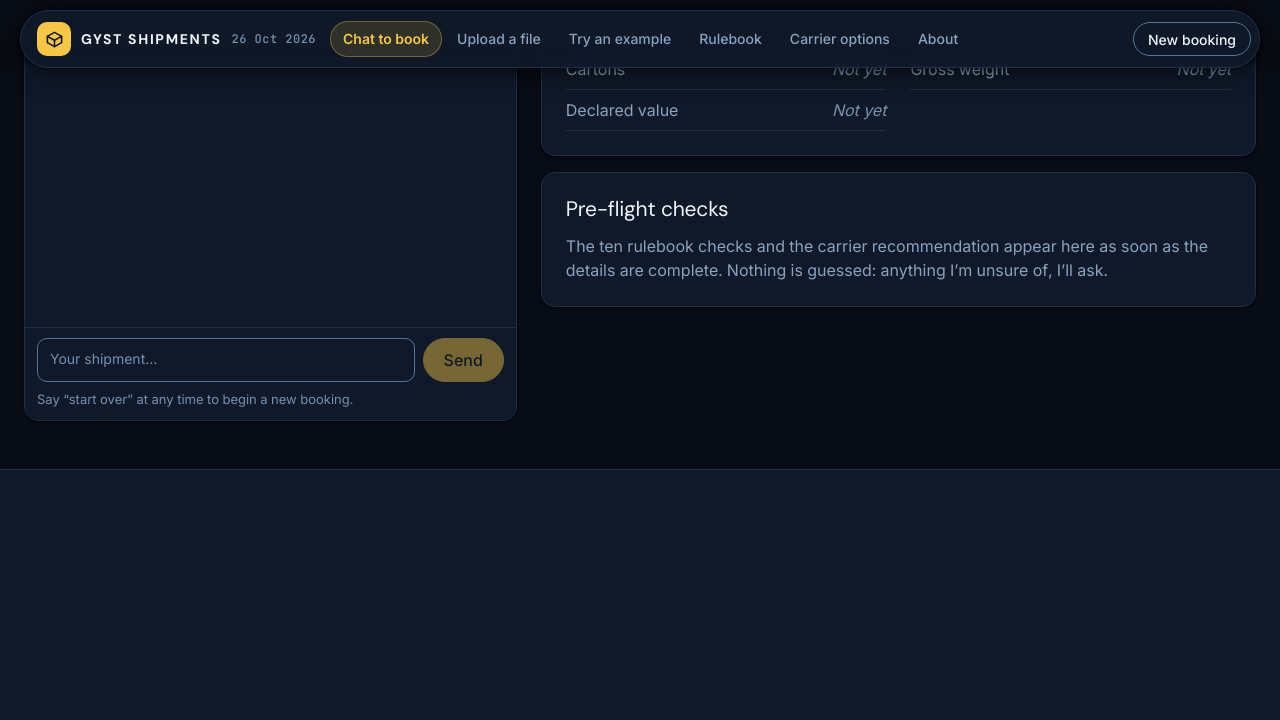
it: in the chat › a single question stays a plain sentence
(page scrolled)
Type "Leeds to Paris, warehouse, appointment booked, ready 5 Nov 2031, cheapest" into the text box named "Your message" at [226, 360], box [37,338,414,382]
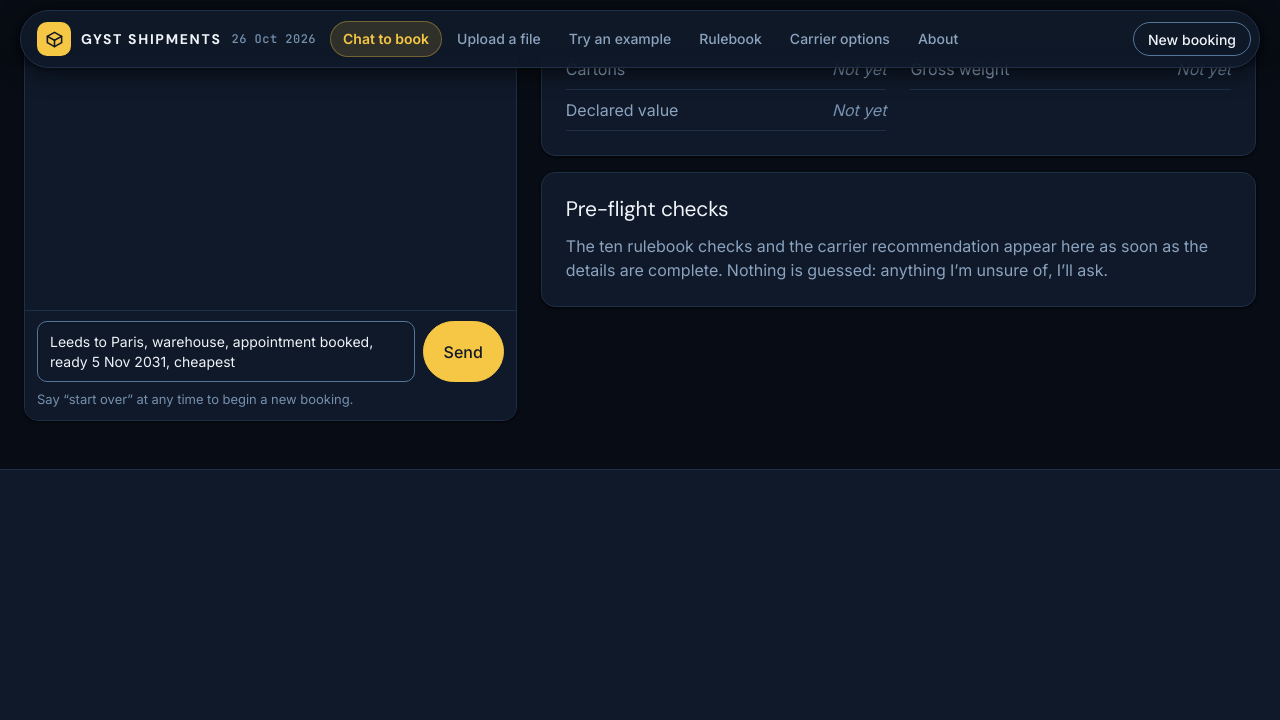
Click the button "Send" at [463, 352], box [422,321,504,382]
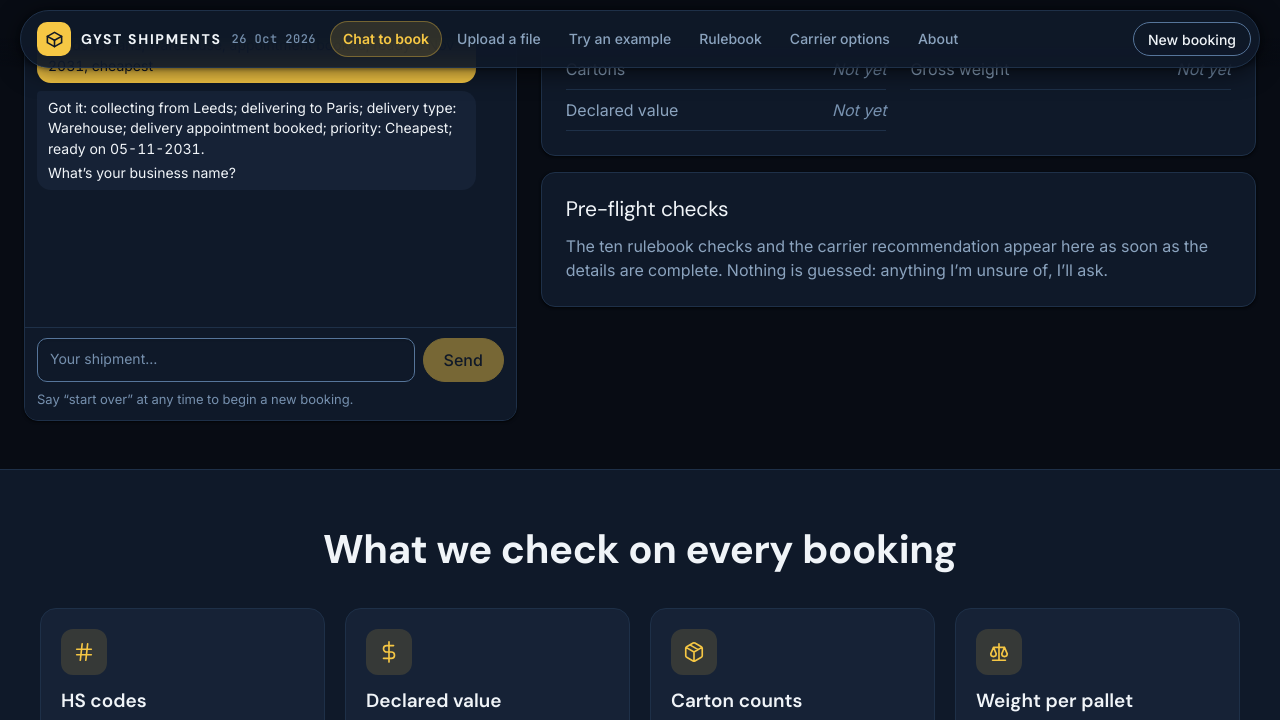
Result: the element with class "bot" shows "What’s your business name?" at [48,164,236,181]
